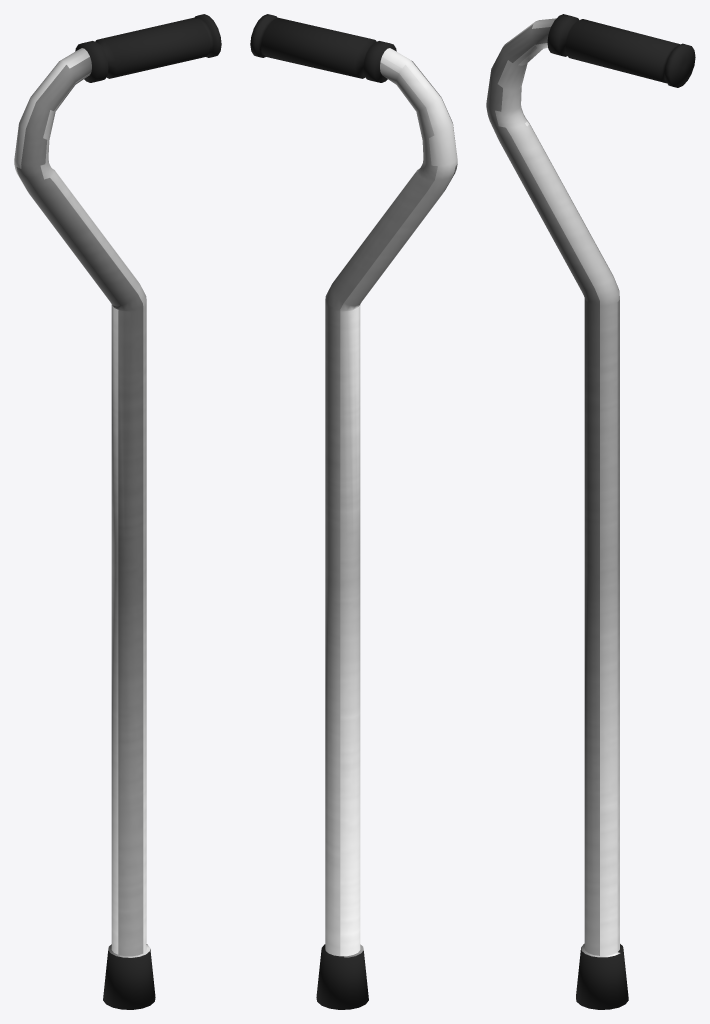
File: AuthenticWalkingCaneMetal.fbx
3 views of the same model, side by side, from view 1: azimuth 30°, elevation 25°; view 2: azimuth 150°, elevation 25°; view 3: azimuth 330°, elevation 25° (orthographic).
Visible parts, largest first — view 1: MetalCane; view 2: MetalCane; view 3: MetalCane.
Part boxes in pixels (x1=…): MetalCane: x1=14, y1=14, x2=221, y2=1009; MetalCane: x1=250, y1=14, x2=457, y2=1009; MetalCane: x1=486, y1=14, x2=695, y2=1009.
Bounding box in the file's own units: 0.1299 × 0.6174 × 0.0308.
